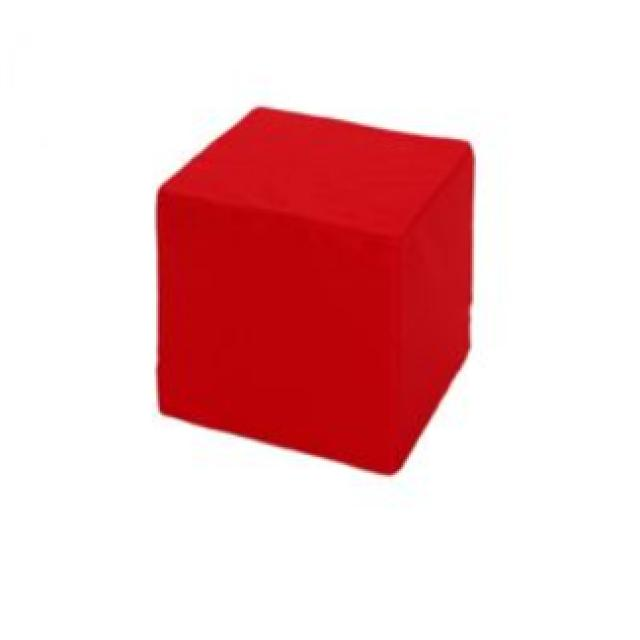red cube: (151, 104, 479, 482)
